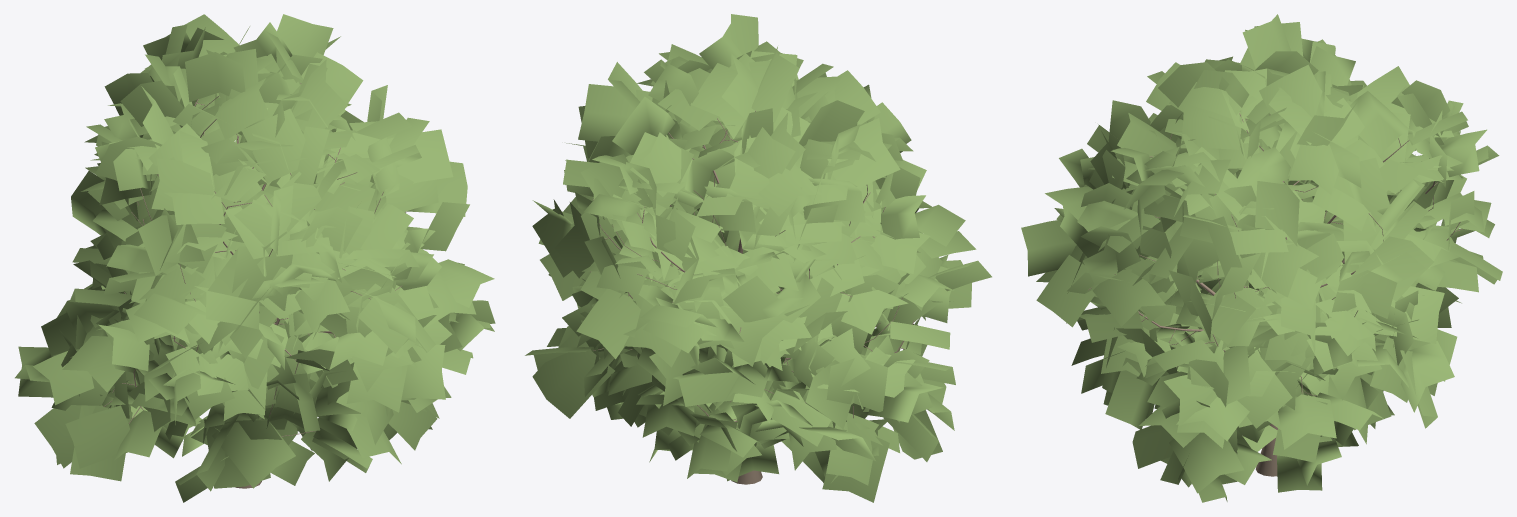
Rendered from Oak_12_young_lod0.glb.
3 renders of one model, left to right at view 1: azimuth 30°, elevation 25°; view 2: azimuth 150°, elevation 25°; view 3: azimuth 270°, elevation 25°, orthographic.
Visible parts, largest first — view 1: Oak_12_young_lod0; view 2: Oak_12_young_lod0; view 3: Oak_12_young_lod0.
Part boxes in pixels (left/top/right/bottom): Oak_12_young_lod0: left=15, top=14, right=495, bottom=502; Oak_12_young_lod0: left=525, top=14, right=991, bottom=502; Oak_12_young_lod0: left=1021, top=14, right=1502, bottom=502.
Size of the model in its own units: 8.56 by 8.49 by 8.55.
